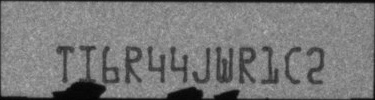1: (259, 42, 280, 84)
2: (306, 45, 326, 84)
4: (147, 43, 167, 83), (169, 45, 189, 83)
6: (101, 43, 119, 84)
C: (283, 44, 302, 85)
I: (77, 43, 96, 83)
J: (192, 46, 212, 84)
R: (237, 44, 257, 85), (124, 44, 144, 84)
T: (55, 44, 76, 84)
W: (215, 44, 234, 84)
